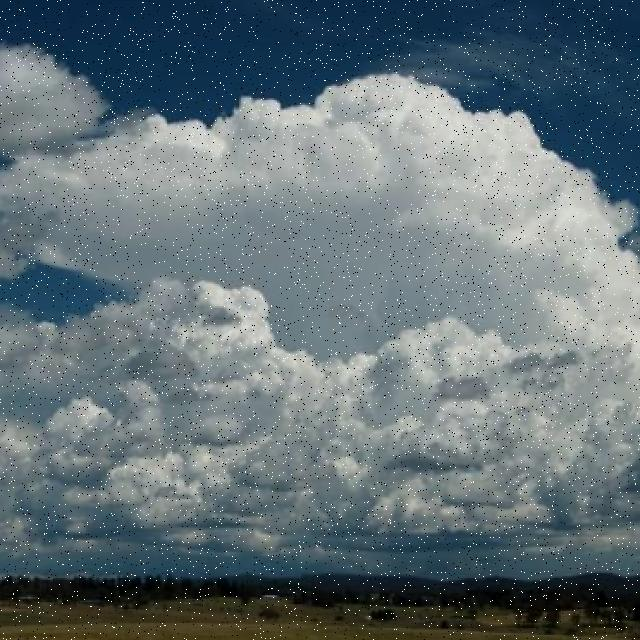Cu: (1, 54, 640, 488)
